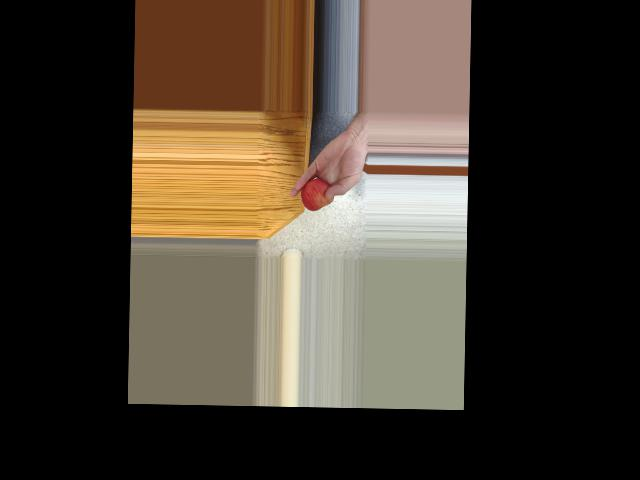apple: (300, 173, 335, 214)
